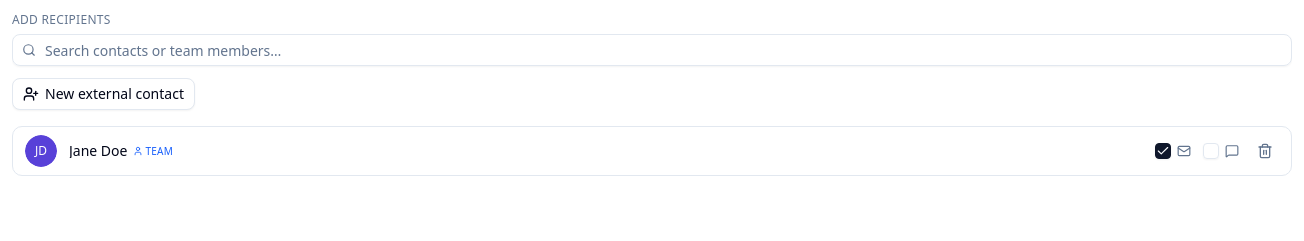
Test case: RecipientPicker - member/contact de-duplication › does not surface a member as a Team result once its matching contact is selected
Type "jane" into the field with placeholder "Search contacts or team members…".
click(652, 50); type("jane")  # box top-left (12, 34), bottom-right (1292, 66)
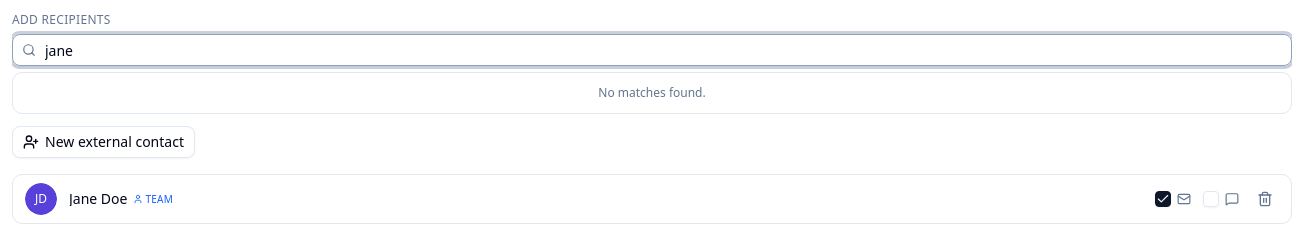
Now the text "No matches found." is shown, box top-left (598, 84), bottom-right (706, 101)
